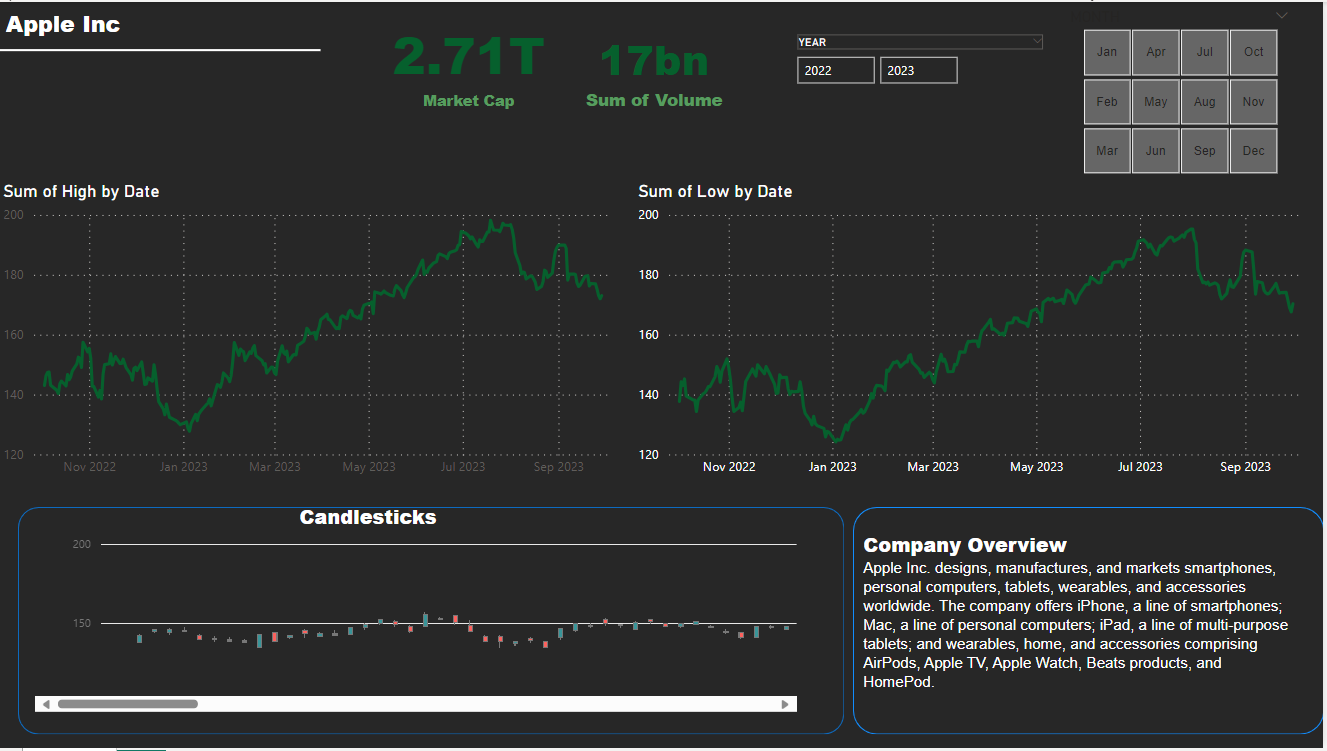

The page's visual inventory and layout, read from the dashboard file:
{"tool":"powerbi","page":{"name":"Page 1","canvas":[1280,720],"ordinal":0},"visuals":[{"type":"lineChart","fields":{"Y":["Sum(APPLE STOCKS.Low)"],"Category":["DATE.Date"]},"box":[612.7,172.5,666.9,294.3],"z":0},{"type":"textbox","box":[829.7,505.3,428.1,201.4],"z":1000},{"type":"shape","box":[824.9,487.2,454.7,219.5],"z":2000},{"type":"shape","box":[19.3,487.2,797.2,219.5],"z":3000},{"type":"textbox","box":[285.4,477.5,314.2,38.4],"z":4000},{"type":"PBI_CV_886A053E_9DFD_4EA0_A47D_CCAEB89AF969","fields":{"Category":["APPLE STOCKS.Date"],"open":["Sum(APPLE STOCKS.Open)"],"close":["Sum(APPLE STOCKS.Close)"],"high":["Sum(APPLE STOCKS.High)"],"low":["Sum(APPLE STOCKS.Low)"]},"box":[24.7,496.7,757.5,193.5],"z":5000},{"type":"textbox","box":[2.7,1.4,356.8,49.4],"z":6000},{"type":"shape","box":[0,26.5,180.9,39.8],"z":7000},{"type":"slicer","fields":{"Values":["DATE.MONTH"]},"box":[1021.5,1.2,236.4,171.3],"z":8000},{"type":"slicer","fields":{"Values":["DATE.YEAR"]},"box":[758.6,26.5,262.9,137.5],"z":9000},{"type":"card","fields":{"Values":["Sum(APPLE STOCKS.Volume)"]},"box":[530.7,22.9,205,85.6],"z":10000},{"type":"lineChart","fields":{"Y":["Sum(APPLE STOCKS.High)"],"Category":["APPLE STOCKS.Date"]},"box":[0,172.5,612.7,294.3],"z":11000},{"type":"textbox","box":[342.5,12.1,223.1,107.3],"z":12000},{"type":"textbox","box":[150.8,12.1,223.1,107.3],"z":12001}]}

Visuals, with their boxes in screenshot pixels (x1, y1, x2, y2), scaled from the page's 1280x720 canvas onto the 1327x751 screenshot:
lineChart - Sum(APPLE STOCKS.Low) x DATE.Date: BBox(635, 180, 1326, 487)
textbox: BBox(860, 527, 1304, 737)
shape: BBox(855, 508, 1326, 737)
shape: BBox(20, 508, 846, 737)
textbox: BBox(296, 498, 622, 538)
PBI_CV_886A053E_9DFD_4EA0_A47D_CCAEB89AF969 - APPLE STOCKS.Date x Sum(APPLE STOCKS.Open): BBox(26, 518, 811, 720)
textbox: BBox(3, 1, 373, 53)
shape: BBox(0, 28, 188, 69)
slicer - DATE.MONTH: BBox(1059, 1, 1304, 180)
slicer - DATE.YEAR: BBox(786, 28, 1059, 171)
card - Sum(APPLE STOCKS.Volume): BBox(550, 24, 763, 113)
lineChart - Sum(APPLE STOCKS.High) x APPLE STOCKS.Date: BBox(0, 180, 635, 487)
textbox: BBox(355, 13, 586, 125)
textbox: BBox(156, 13, 388, 125)
